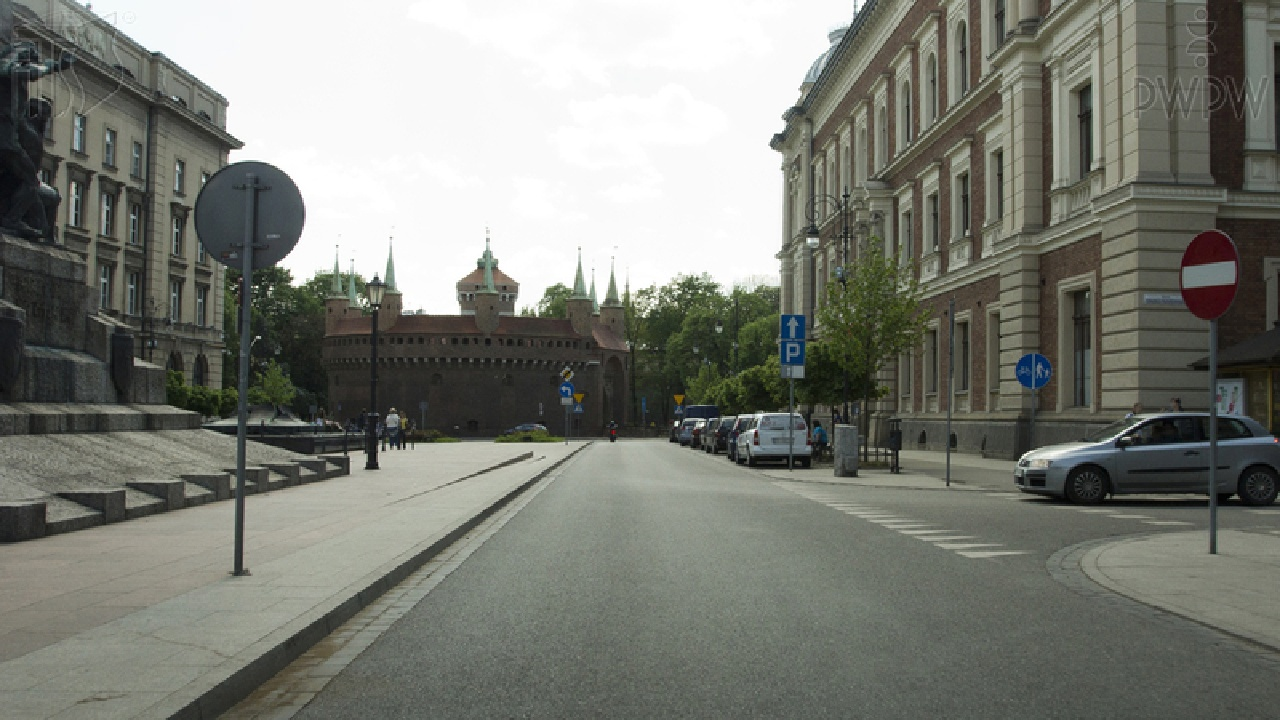B2: (1179, 229, 1239, 319)
D18: (781, 340, 805, 365)
D3: (781, 314, 805, 340)
